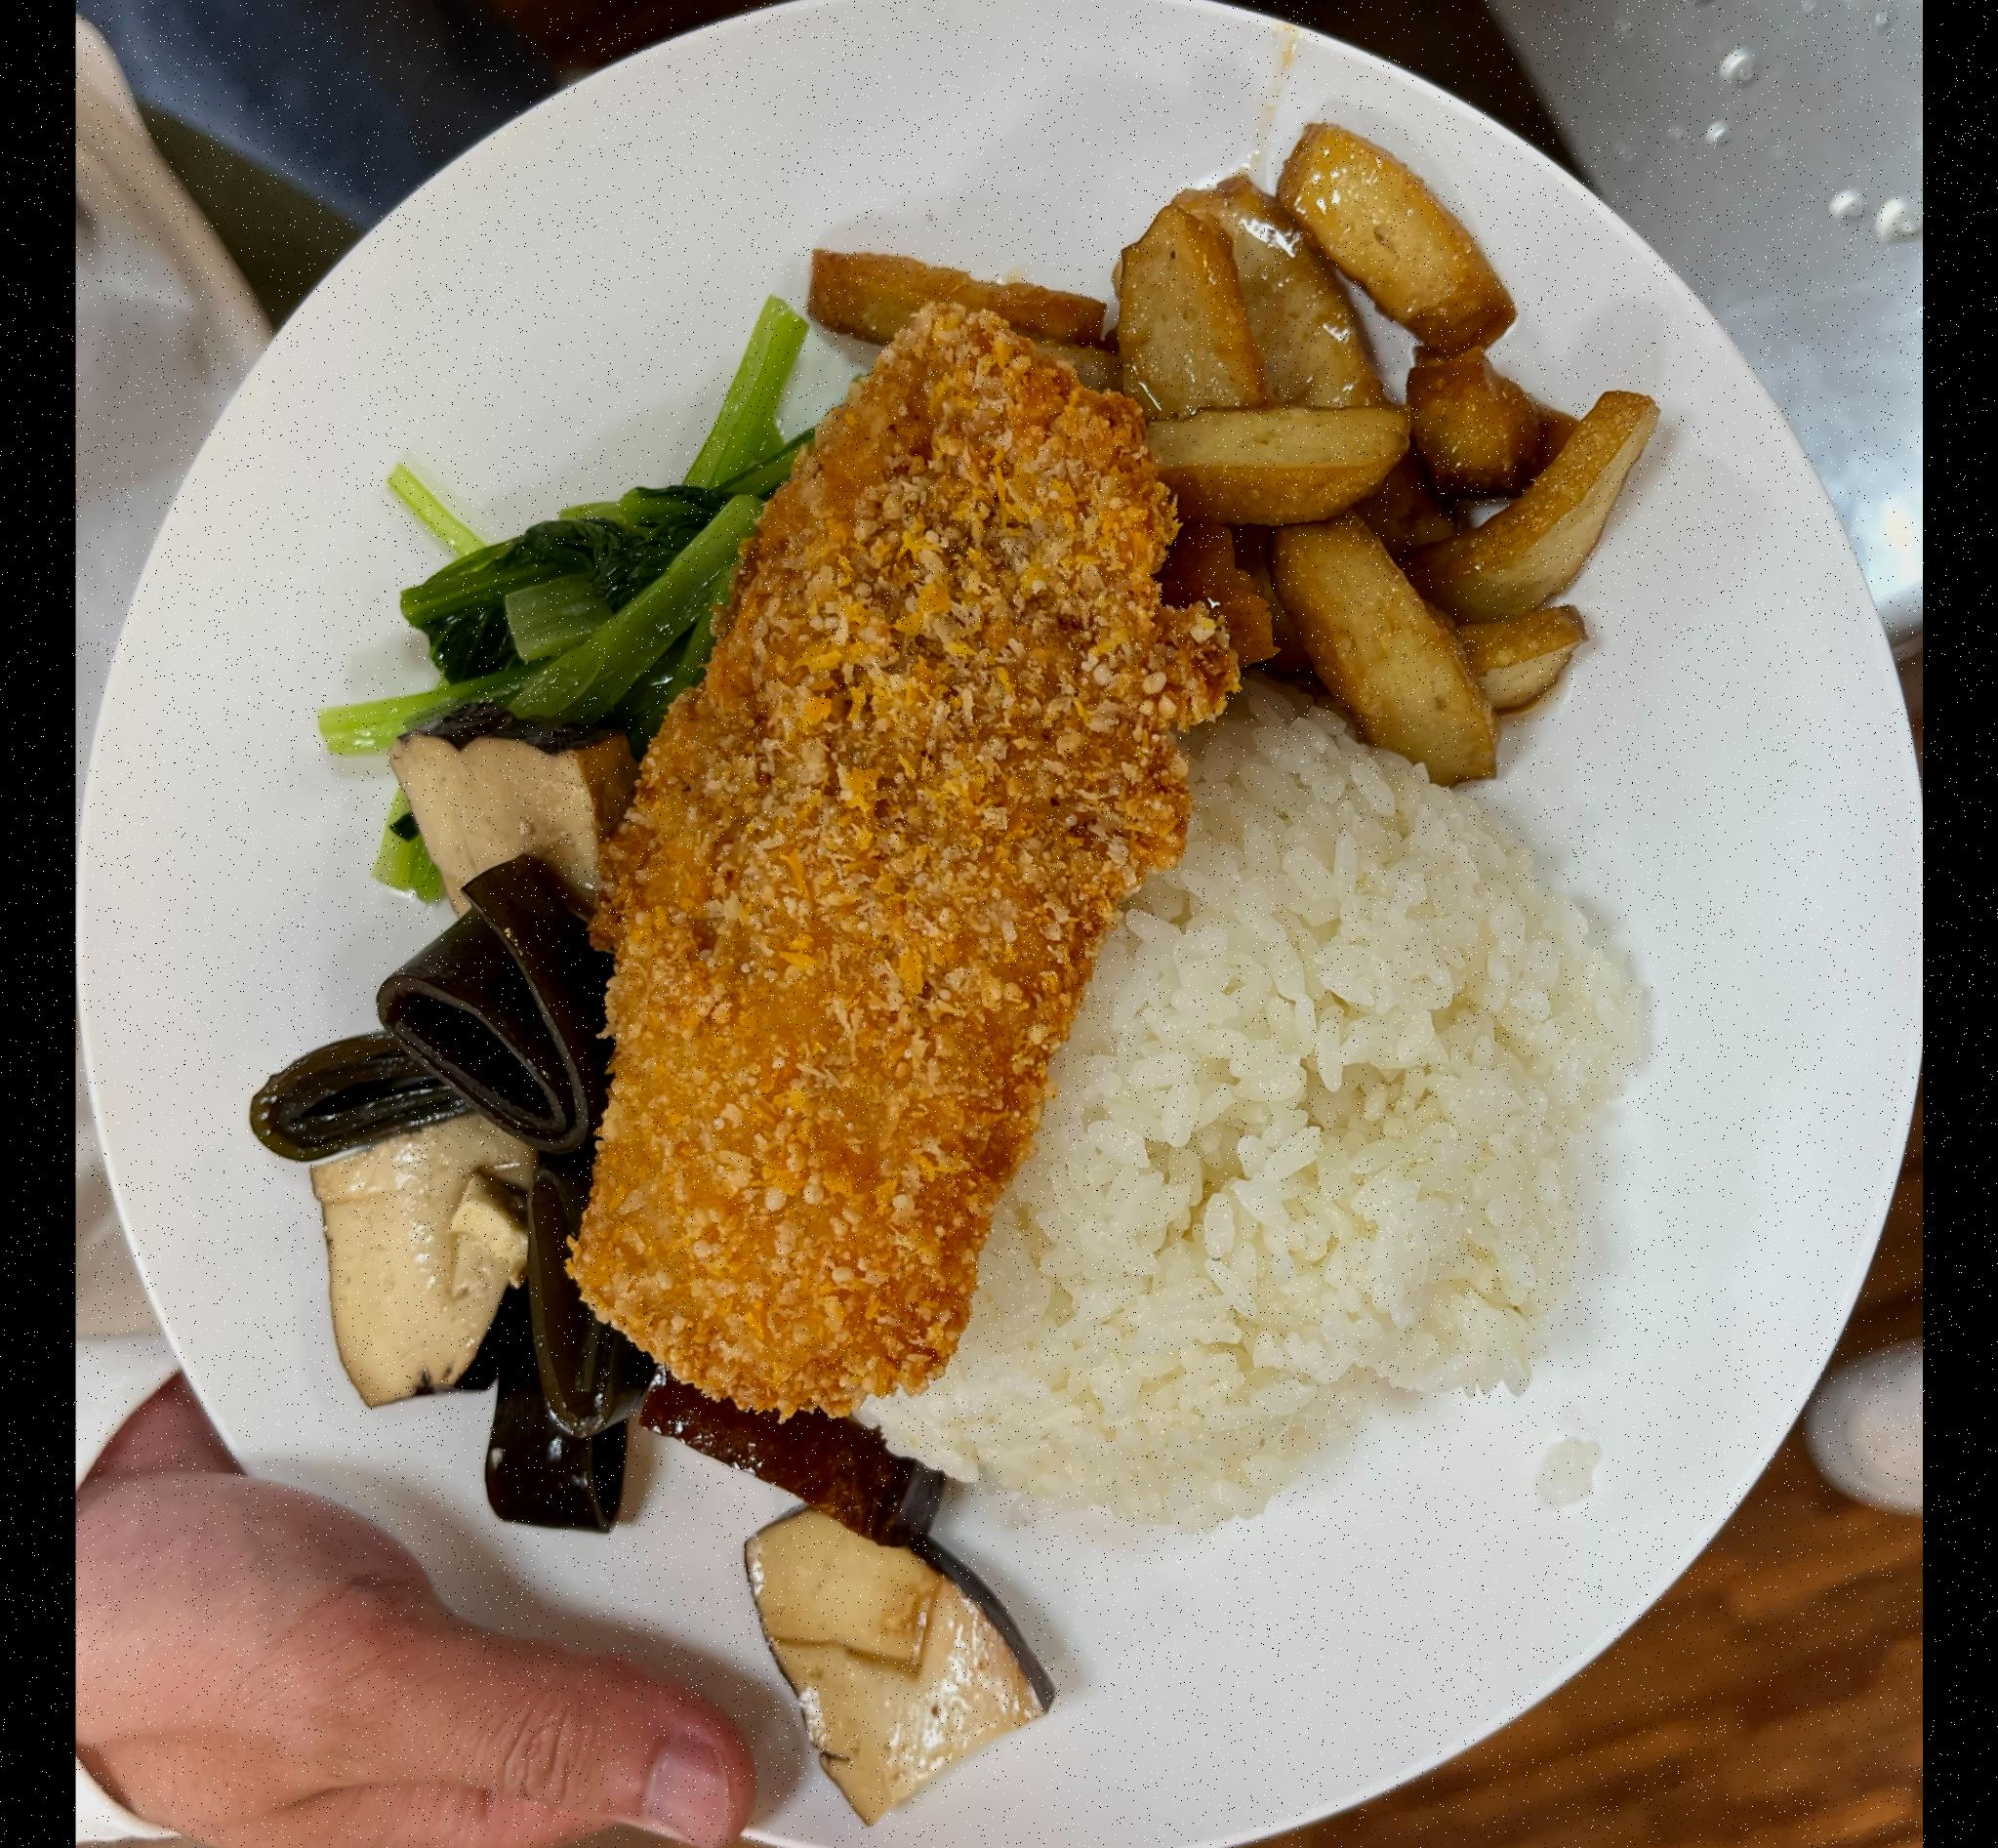chicken steak: (554, 287, 1261, 1435)
plate: (94, 0, 1908, 1848)
side dish: (256, 756, 1058, 1815), (1072, 148, 1720, 789), (349, 320, 809, 925)
white rice: (940, 707, 1677, 1552)
